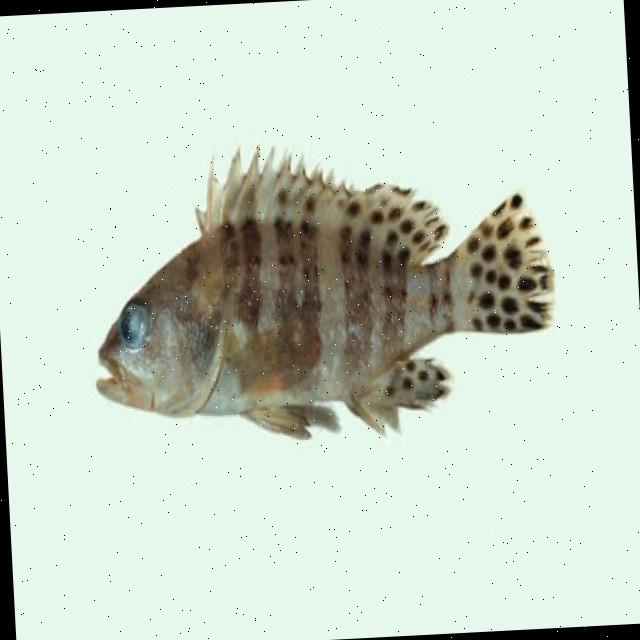ikan: (82, 125, 562, 454)
